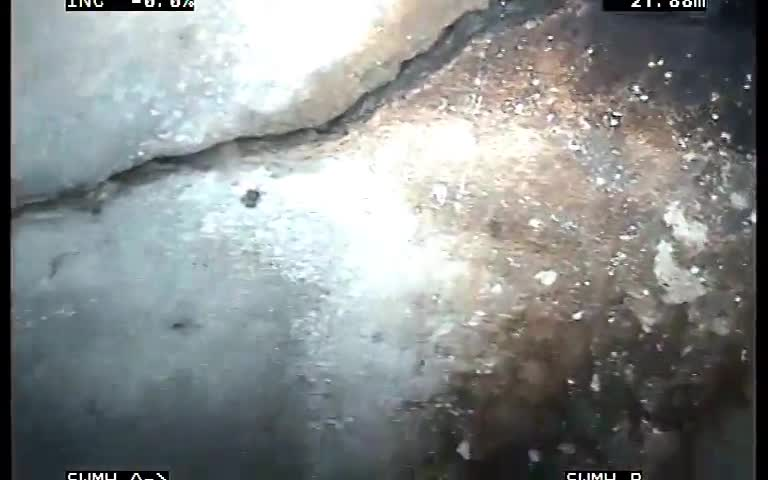Crack: (10, 12, 572, 252), (196, 1, 584, 257)
